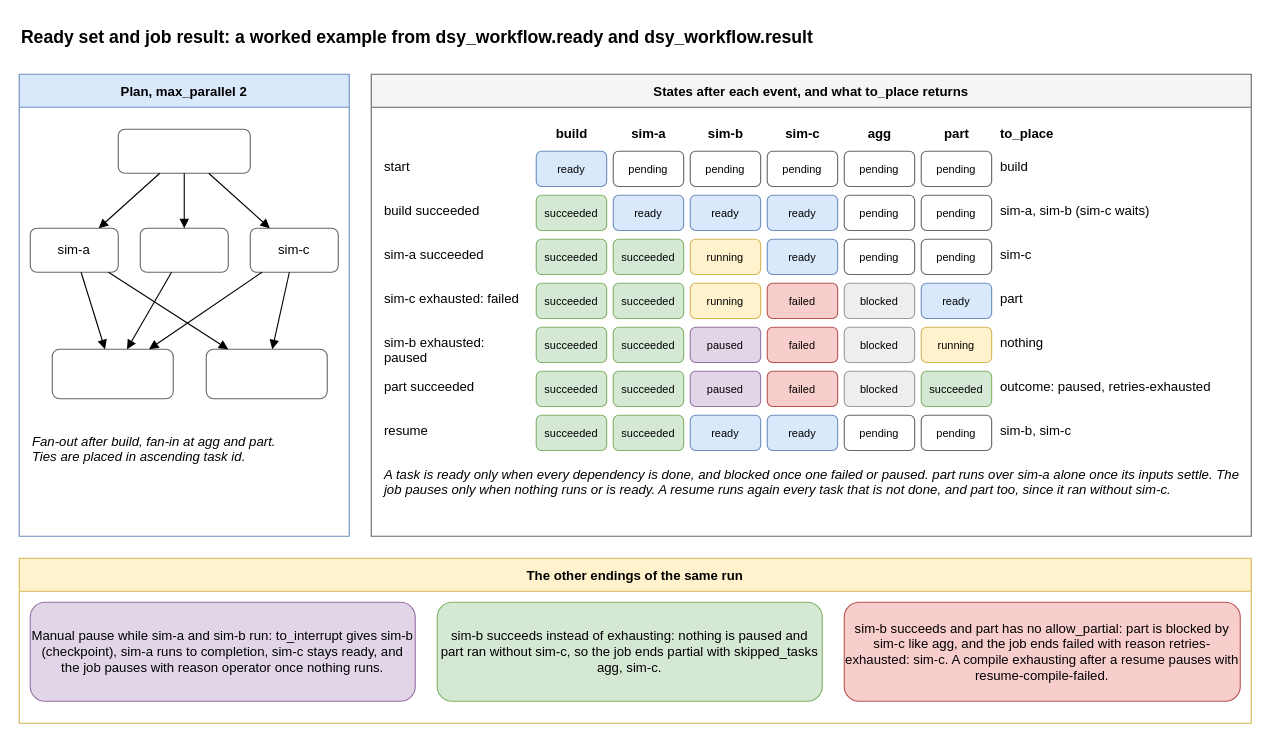
Image size: 1271x743. Some labels were removed from this diagram. Here are the shapes that lost their labels. From the top down, the centre of each, then its label:
At [183,150]: "build (compile)".
At [183,249]: "sim-b checkpoint".
At [112,373]: "agg waits for all".
At [266,373]: "part allow_partial".
